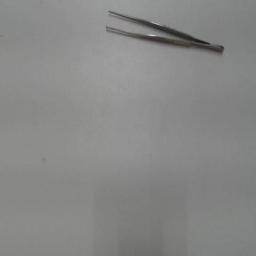Gillies Toothed Dissector: (102, 3, 226, 55)
